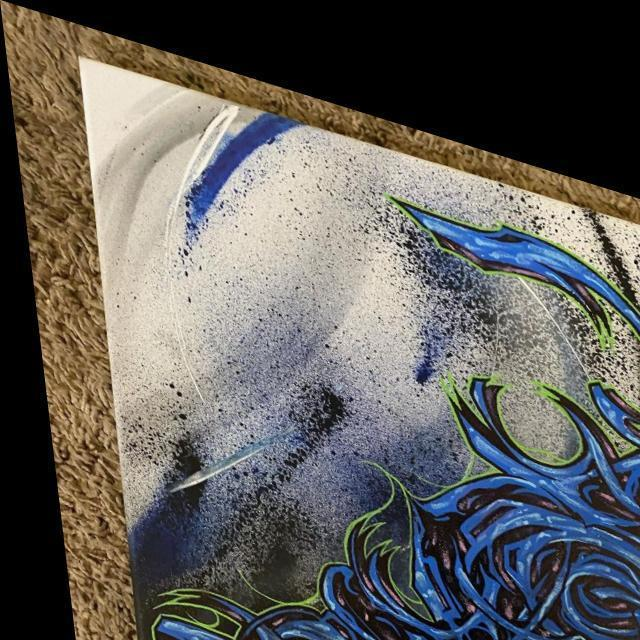nonspitting: (150, 194, 640, 640)
